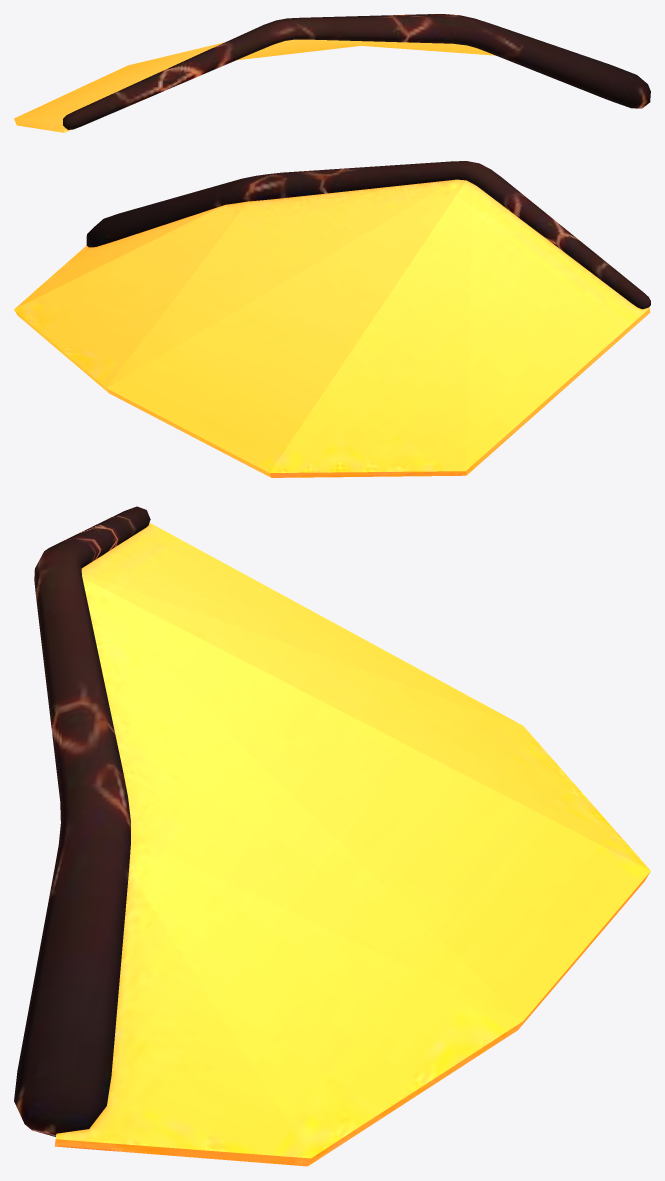
The model's file is u_drakewingR_x_g.glb.
3 renders of one model, top to bottom at view 1: azimuth 30°, elevation 25°; view 2: azimuth 150°, elevation 25°; view 3: azimuth 270°, elevation 25°, orthographic. The views are drawn at different scales.
Visible parts, largest first — view 1: u_drakewingR_x; view 2: u_drakewingR_x; view 3: u_drakewingR_x.
Part boxes in pixels (left/top/right/bottom): u_drakewingR_x: left=14, top=14, right=650, bottom=132; u_drakewingR_x: left=14, top=161, right=650, bottom=477; u_drakewingR_x: left=14, top=506, right=650, bottom=1166.
Bounding box in the file's own units: 2.6 × 0.8023 × 1.5.
Materials: 1 (1 with a texture image).
